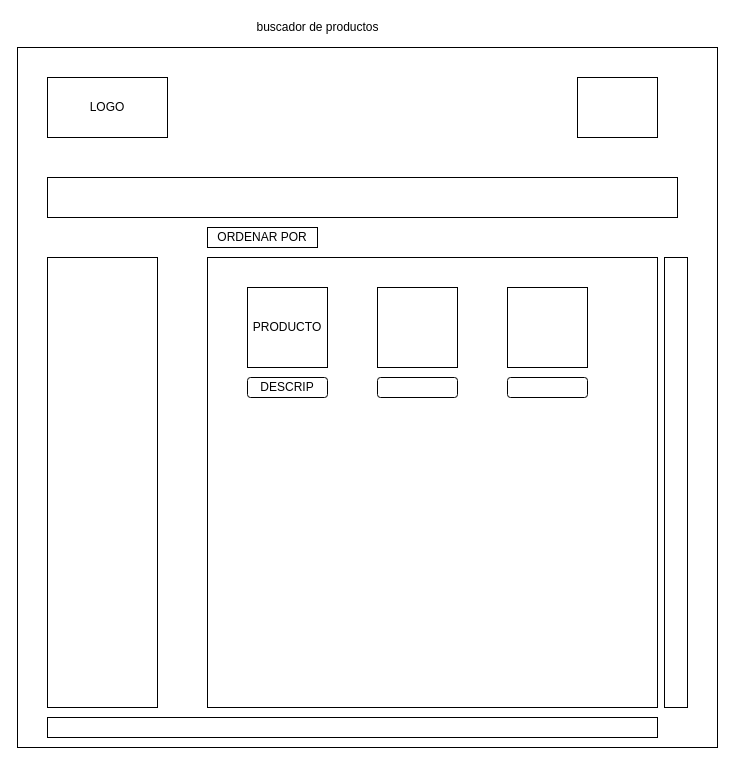
Some shapes in this 735 by 765 pixel diagram are drawn without their labels. Each missing label, with the box of its shape:
FILTROS: (46, 256, 158, 708)
MENU: (576, 76, 658, 138)
